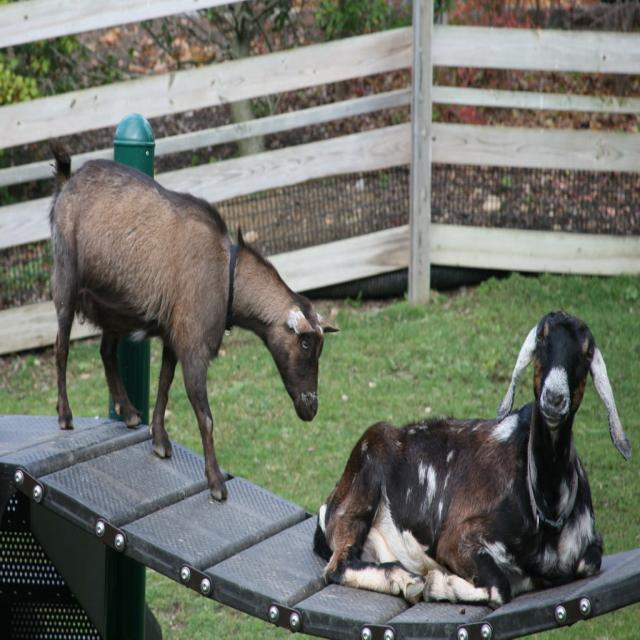Goat: (46, 136, 339, 504), (313, 308, 631, 607)
